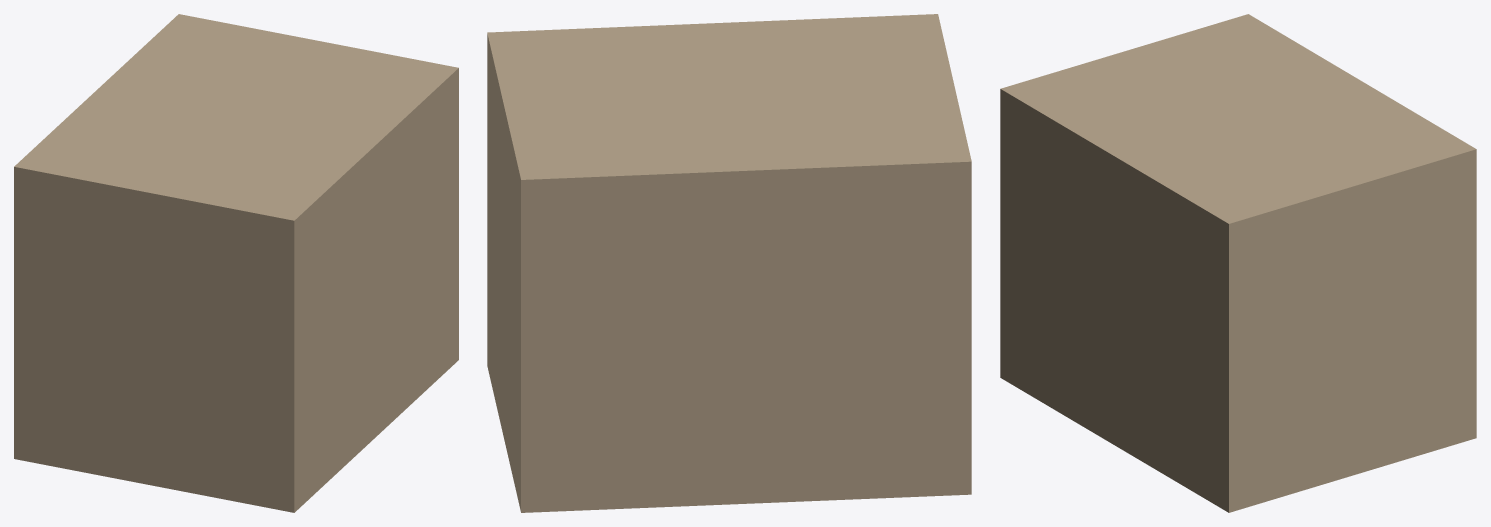
File: bld_163484498.dae
3 views of the same model, side by side, from view 1: azimuth 30°, elevation 25°; view 2: azimuth 150°, elevation 25°; view 3: azimuth 270°, elevation 25° (orthographic). The views are drawn at different scales.
Visible parts, largest first — view 1: bld_163484498; view 2: bld_163484498; view 3: bld_163484498.
Boxes of the visible parts, x1=… form: bld_163484498: x1=14, y1=14, x2=458, y2=512; bld_163484498: x1=487, y1=14, x2=971, y2=512; bld_163484498: x1=1000, y1=14, x2=1476, y2=512.
Bounding box in the file's own units: 12.47 × 11.95 × 8.
